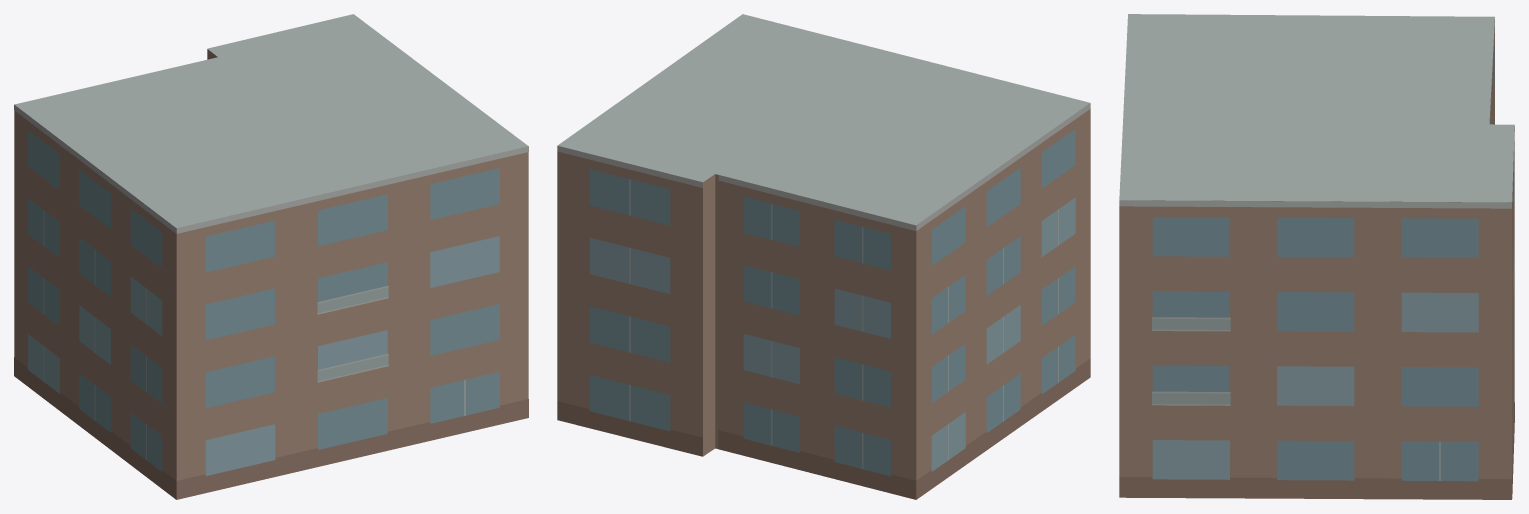
Rendered from survey-upis-32832484.glb.
3 views of the same model, side by side, from view 1: azimuth 30°, elevation 25°; view 2: azimuth 150°, elevation 25°; view 3: azimuth 270°, elevation 25° (orthographic). The views are drawn at different scales.
Visible parts, largest first — view 1: survey-upis-32832484.tmp; view 2: survey-upis-32832484.tmp; view 3: survey-upis-32832484.tmp.
Part boxes in pixels (x1,y1,x2,y2): survey-upis-32832484.tmp: [14, 14, 528, 499]; survey-upis-32832484.tmp: [557, 14, 1090, 499]; survey-upis-32832484.tmp: [1119, 14, 1514, 499].
Size of the model in its own units: 15.9 by 11.7 by 14.11.
